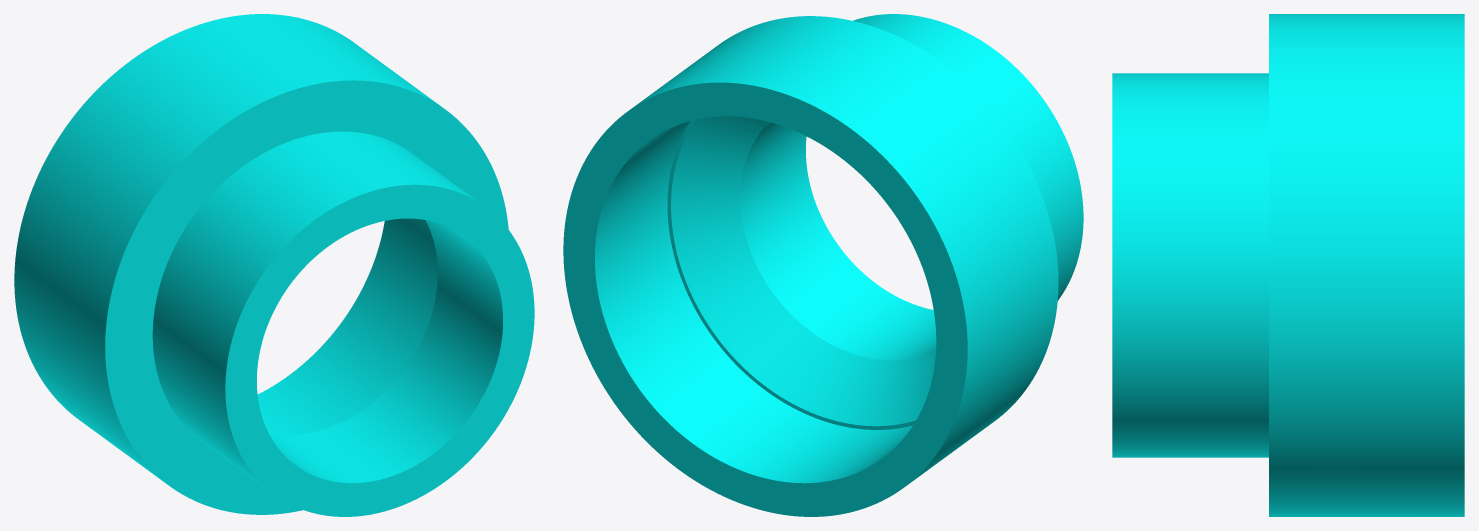
Rendered from V5_Filter Adapter (SM05).obj.
The picture shows the model from 3 angles, left to right: view 1: azimuth 30°, elevation 25°; view 2: azimuth 150°, elevation 25°; view 3: azimuth 270°, elevation 25°; orthographic projection. The views are drawn at different scales.
Parts seen in each view (by area): view 1: Solid1:46; view 2: Solid1:46; view 3: Solid1:46.
Boxes of the visible parts, <box> form: Solid1:46: <box>14,14,534,516</box>; Solid1:46: <box>563,14,1083,516</box>; Solid1:46: <box>1112,14,1464,516</box>.
Size of the model in its own units: 16.07 by 16.07 by 11.25.
